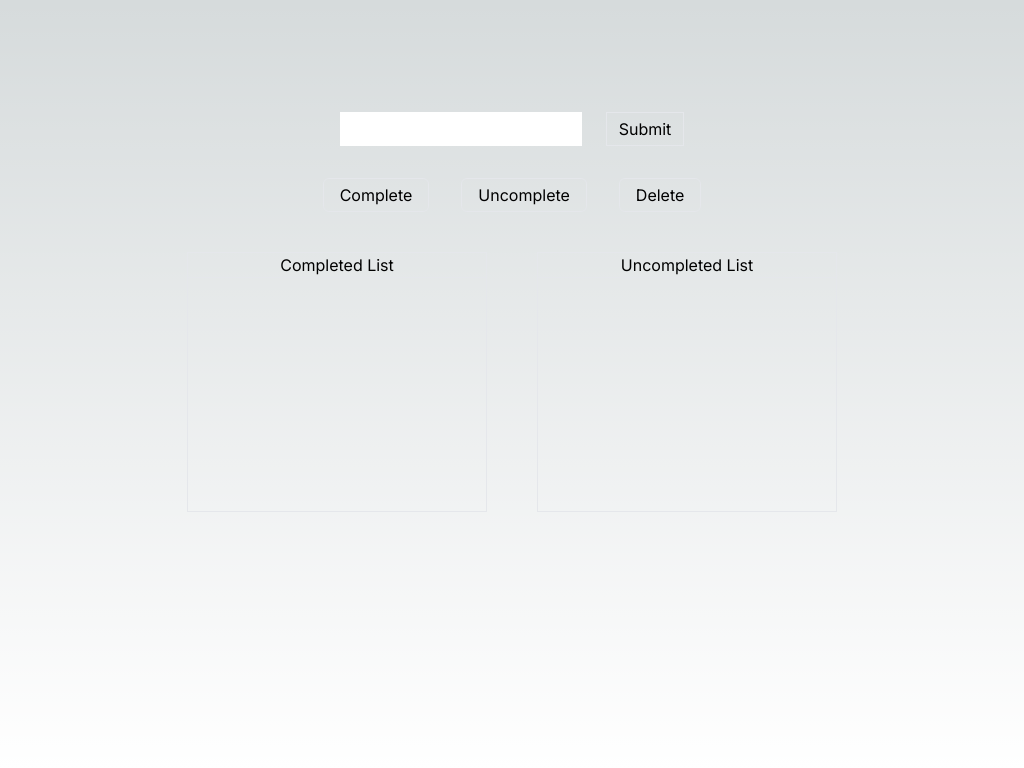
Test: Home › should complete a task
The width and height of the screenshot is (1024, 768).
Step 1. Type "New to do" into the field with test id "to-do-input" → {"x": 461, "y": 129}, box x1=340 y1=112 x2=582 y2=146
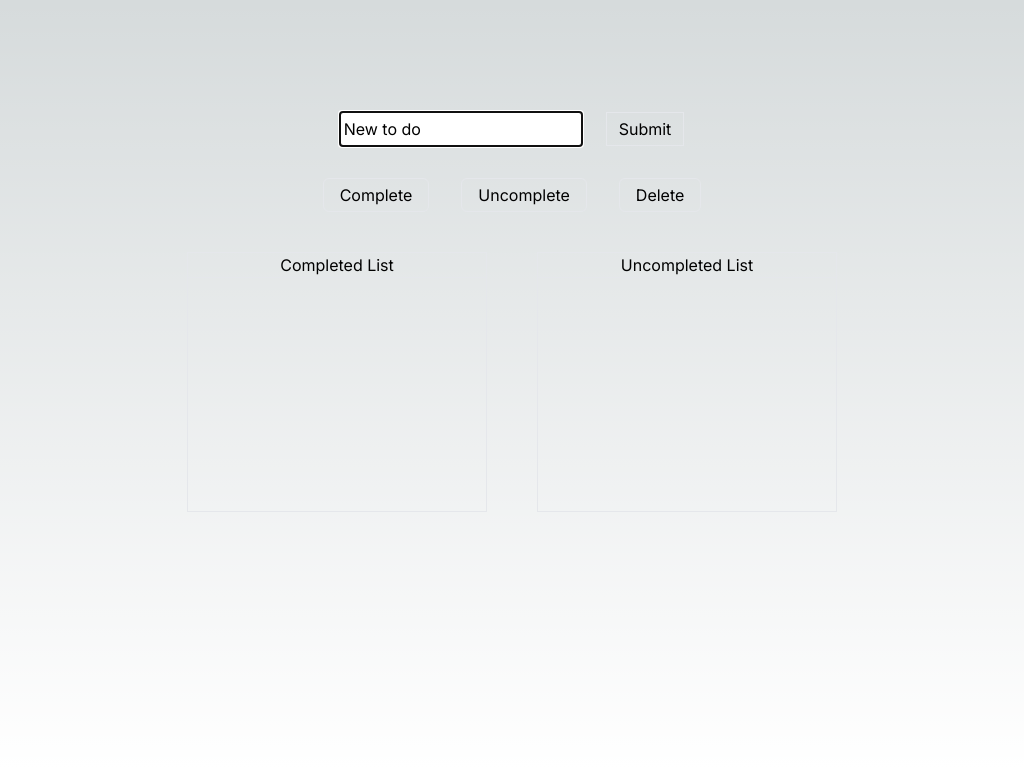
Step 2. Click the button with test id "submit-button" → {"x": 645, "y": 129}, box x1=606 y1=112 x2=684 y2=146
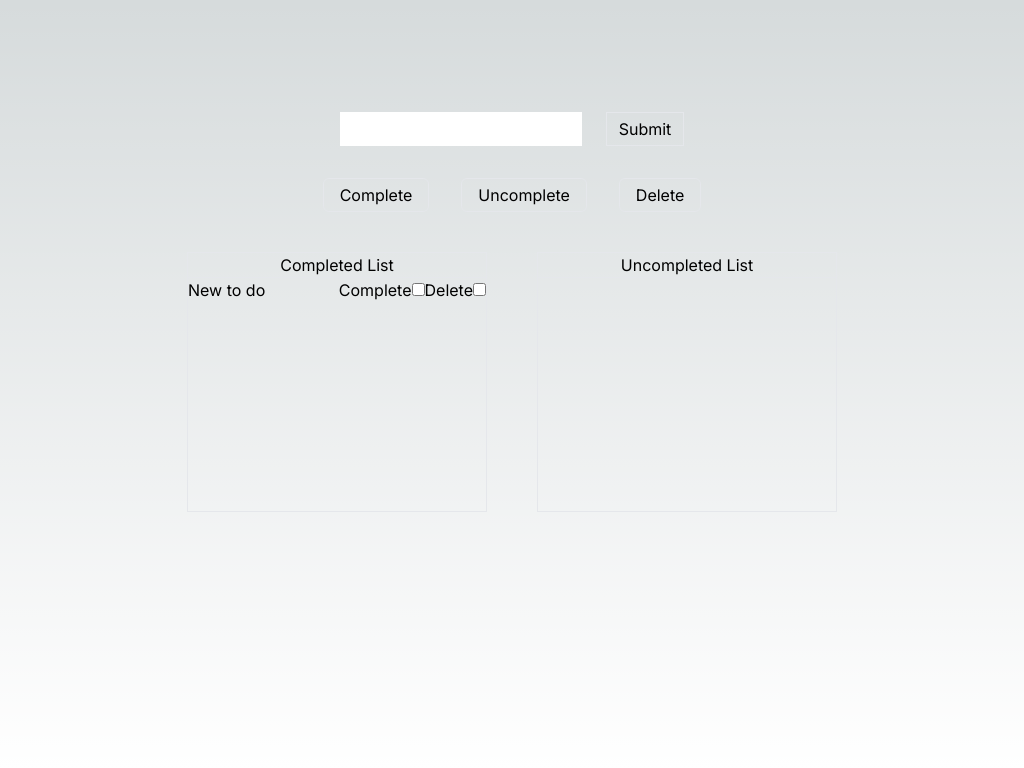
Check: the field with test id "to-do-input" is empty, box x1=340 y1=112 x2=582 y2=146
Check: the list with test id "uncompleted-list" shows "New to do", box x1=188 y1=280 x2=265 y2=300
Check: the checkbox with test id "complete-checkbox" is not checked
Step 3. Click the checkbox with test id "complete-checkbox" → {"x": 418, "y": 290}, box x1=412 y1=283 x2=424 y2=296
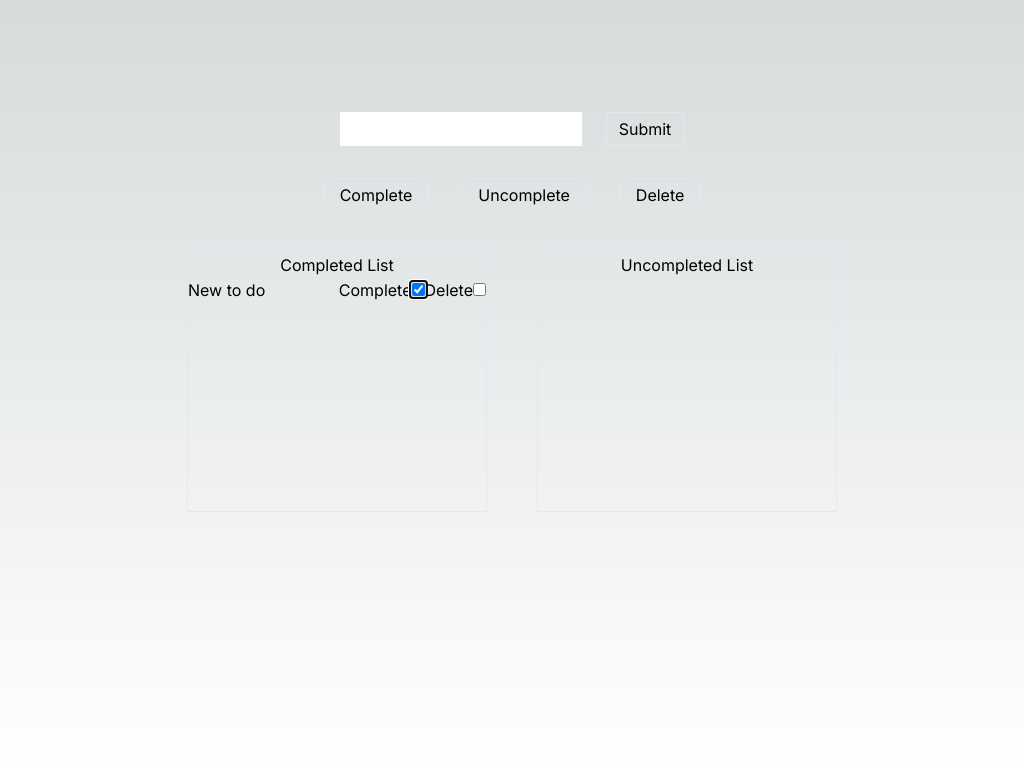
Check: the checkbox with test id "complete-checkbox" is checked, box x1=412 y1=283 x2=424 y2=296
Step 4. Click the button with test id "complete-button" → {"x": 376, "y": 195}, box x1=323 y1=178 x2=429 y2=212
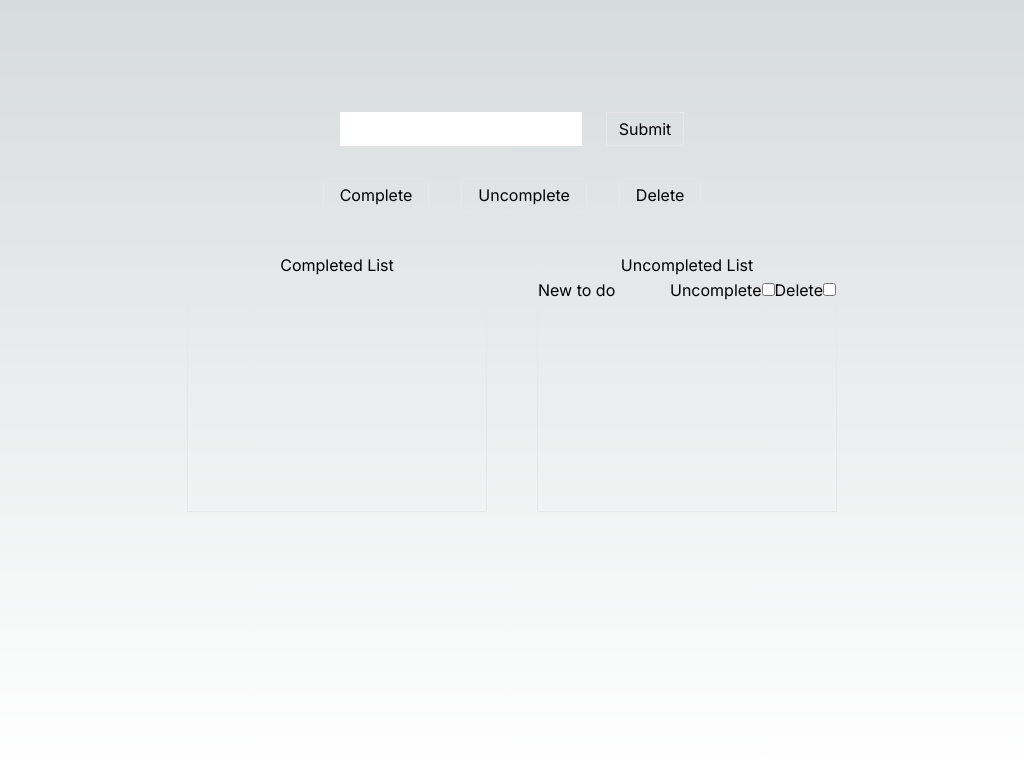
Check: the list with test id "completed-list" shows "New to do", box x1=538 y1=280 x2=615 y2=300
